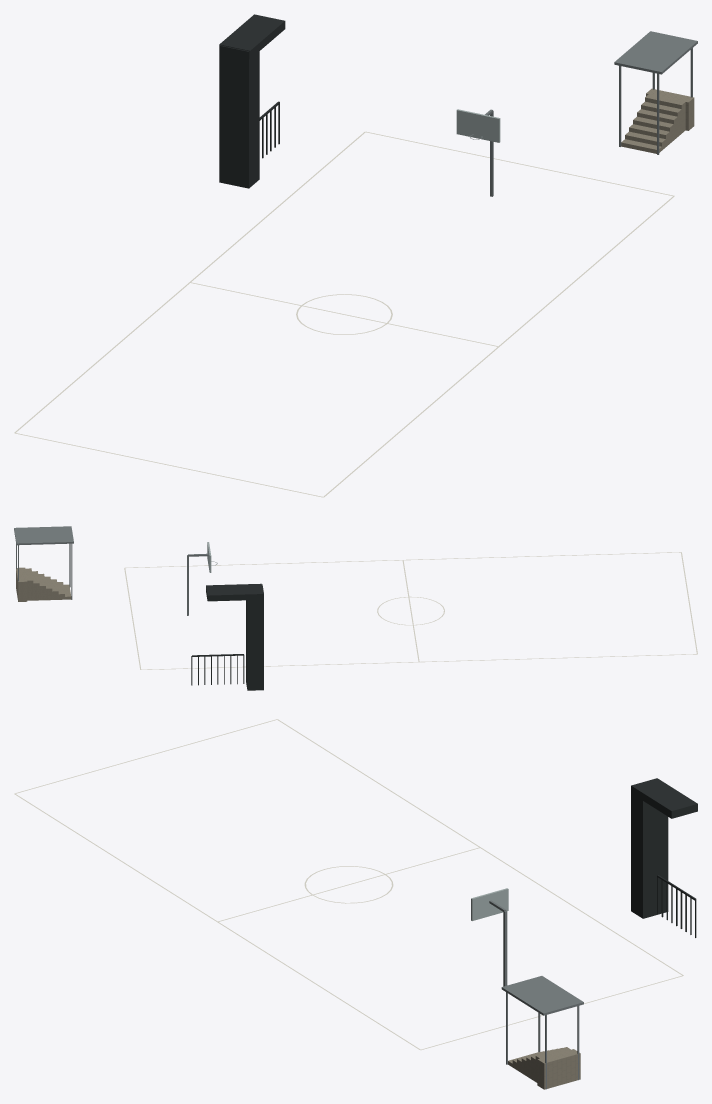
3 renders of one model, top to bottom at view 1: azimuth 30°, elevation 25°; view 2: azimuth 150°, elevation 25°; view 3: azimuth 270°, elevation 25°, orthographic. The views are drawn at different scales.
Parts seen in each view (by area): view 1: prop_gate, prop_court-lines, prop_covered-stairs__canopy, stair-covered-stairs, prop_basketball; view 2: prop_gate, prop_court-lines, prop_covered-stairs__canopy, stair-covered-stairs, prop_stair-landing, prop_basketball; view 3: prop_gate, prop_court-lines, prop_covered-stairs__canopy, prop_stair-landing, prop_basketball, stair-covered-stairs.
Part boxes in pixels (left/top/right/bottom): prop_gate: left=219, top=14, right=285, bottom=188; prop_court-lines: left=14, top=131, right=674, bottom=497; prop_covered-stairs__canopy: left=614, top=31, right=697, bottom=154; stair-covered-stairs: left=621, top=94, right=685, bottom=153; prop_basketball: left=456, top=109, right=500, bottom=196; prop_gate: left=191, top=583, right=263, bottom=690; prop_court-lines: left=124, top=552, right=697, bottom=669; prop_covered-stairs__canopy: left=14, top=526, right=73, bottom=599; stair-covered-stairs: left=25, top=568, right=71, bottom=600; prop_stair-landing: left=16, top=567, right=27, bottom=601; prop_basketball: left=187, top=542, right=217, bottom=615; prop_gate: left=631, top=778, right=697, bottom=937; prop_court-lines: left=14, top=719, right=683, bottom=1050; prop_covered-stairs__canopy: left=501, top=976, right=583, bottom=1089; prop_stair-landing: left=537, top=1049, right=580, bottom=1089; prop_basketball: left=471, top=888, right=508, bottom=986; stair-covered-stairs: left=508, top=1047, right=570, bottom=1082.
Size of the model in its own units: 36.14 by 5.72 by 28.12.
Materials: 5 (1 with a texture image).
